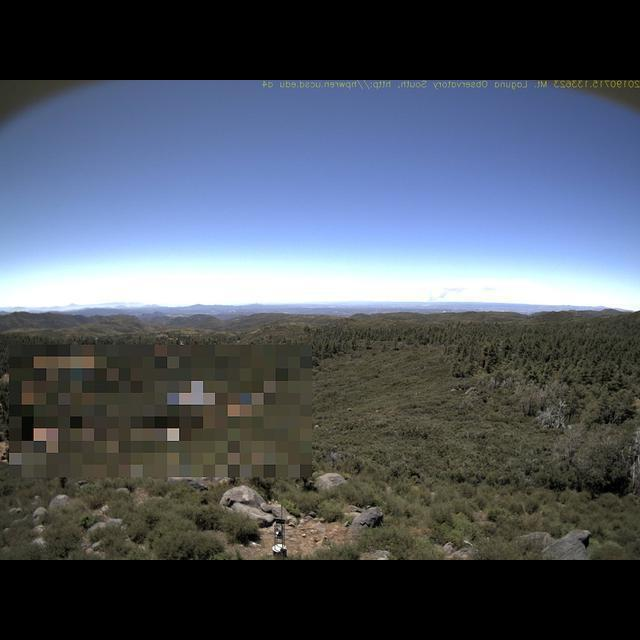Smoke: (430, 283, 467, 301)
